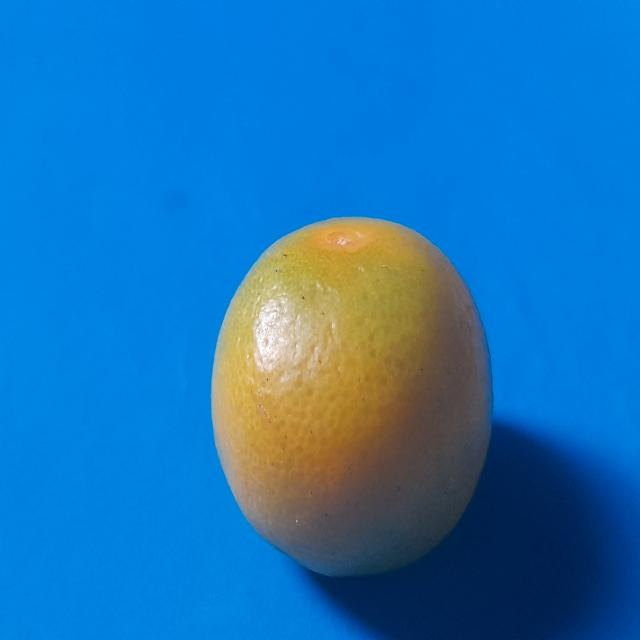greening: (205, 209, 499, 585)
